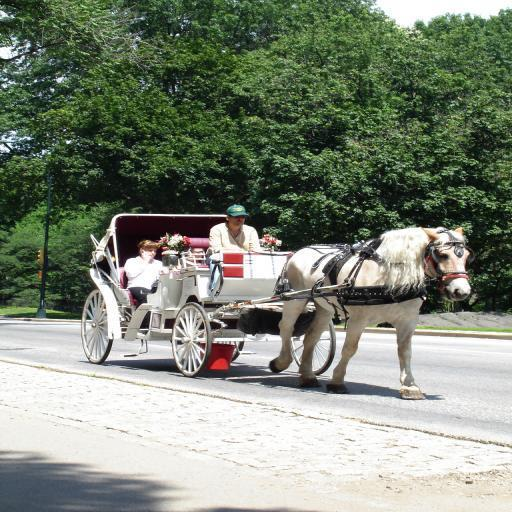horse: (271, 226, 474, 402)
